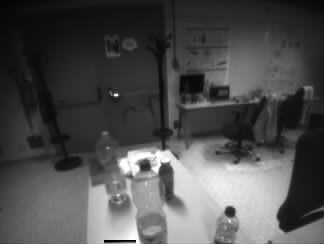Bottle: (134, 162, 166, 244), (102, 133, 125, 204), (217, 209, 238, 244), (160, 160, 173, 200)
